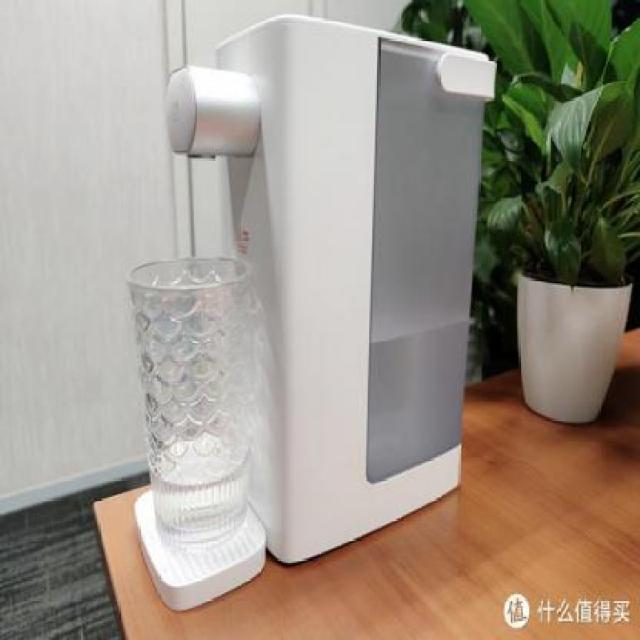cooler: (132, 8, 498, 615)
